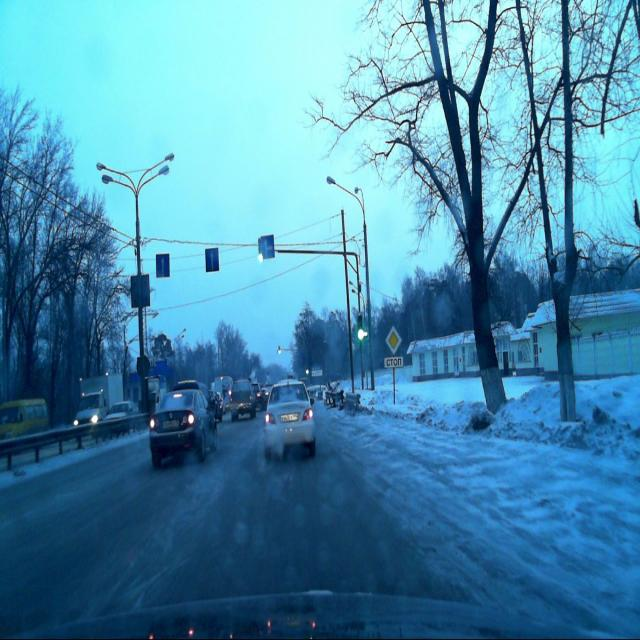object: (259, 233, 276, 260), (206, 247, 220, 276), (157, 252, 170, 278), (384, 356, 402, 368), (394, 371, 396, 404)
road sign: (386, 325, 402, 355)
